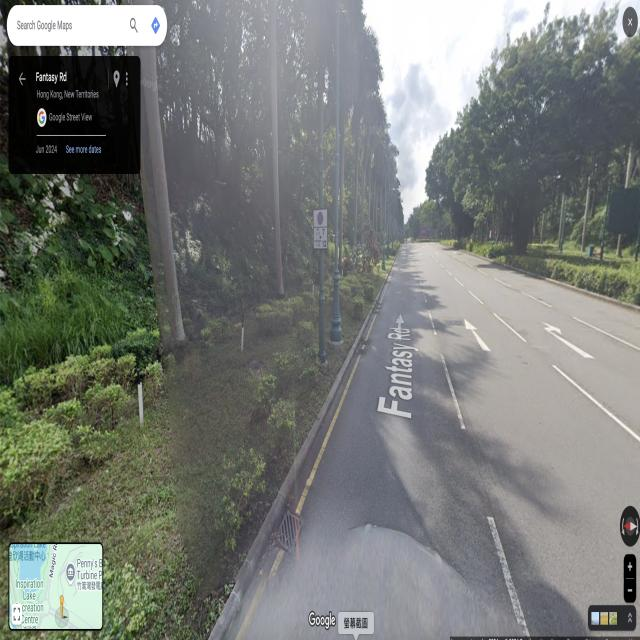Order-Sign: (313, 209, 327, 248)
